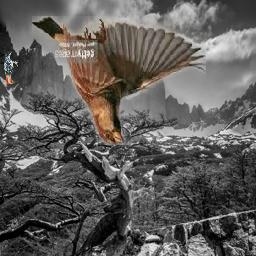Sparrow: (32, 17, 206, 146)
Woodpecker: (4, 50, 19, 84)
